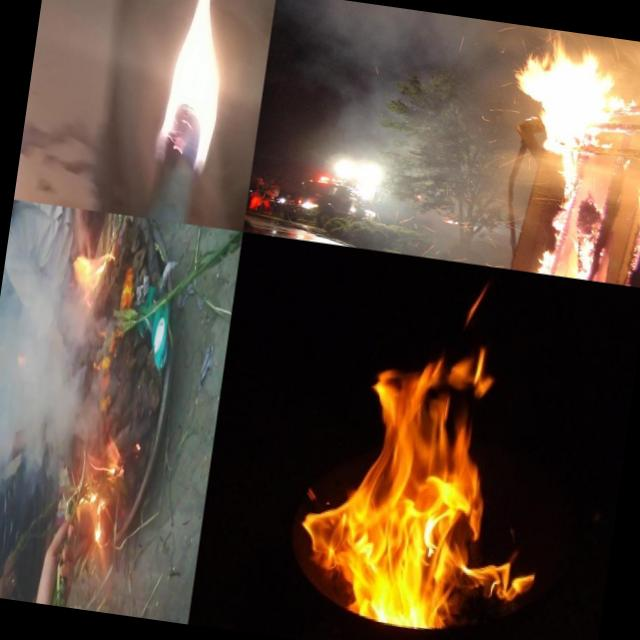fire: (290, 348, 561, 640), (127, 0, 256, 186), (504, 42, 640, 174), (530, 158, 640, 288), (36, 494, 72, 606)
smoke: (248, 72, 553, 238), (0, 201, 88, 603), (265, 0, 521, 106), (48, 212, 120, 493), (381, 217, 533, 272), (519, 25, 640, 64), (2, 200, 30, 291)
